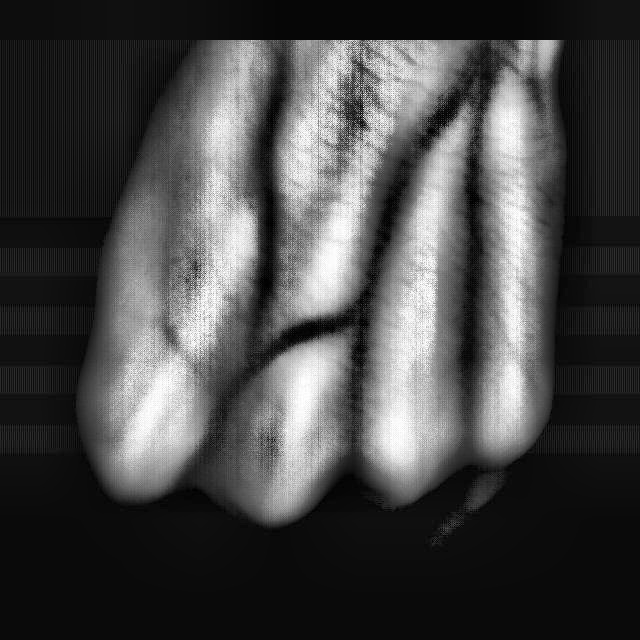Vein: (355, 98, 453, 301), (253, 98, 285, 315), (460, 111, 491, 324)
